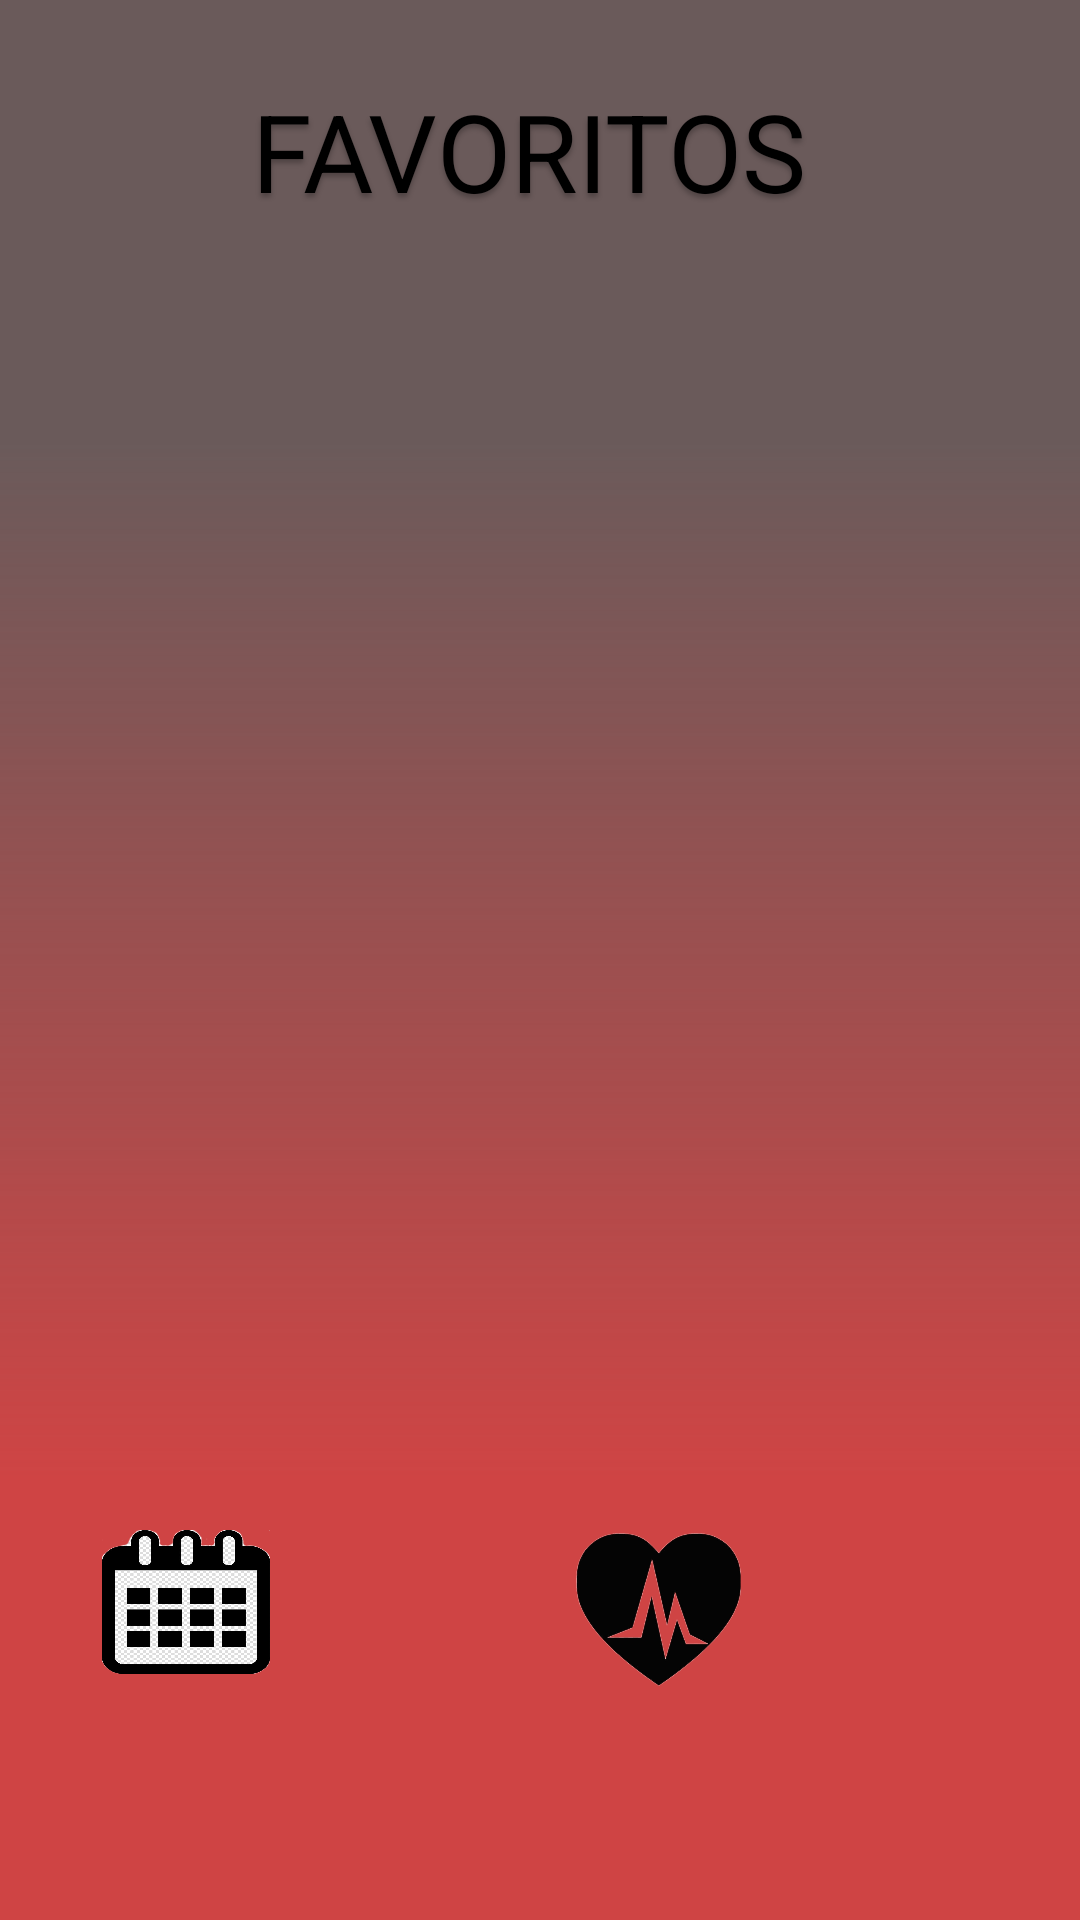

Point at icon controls on the screen. Image size 1080x1920, points as point (x, y).
eventos: point (186, 1602)
guardados: point (658, 1609)
